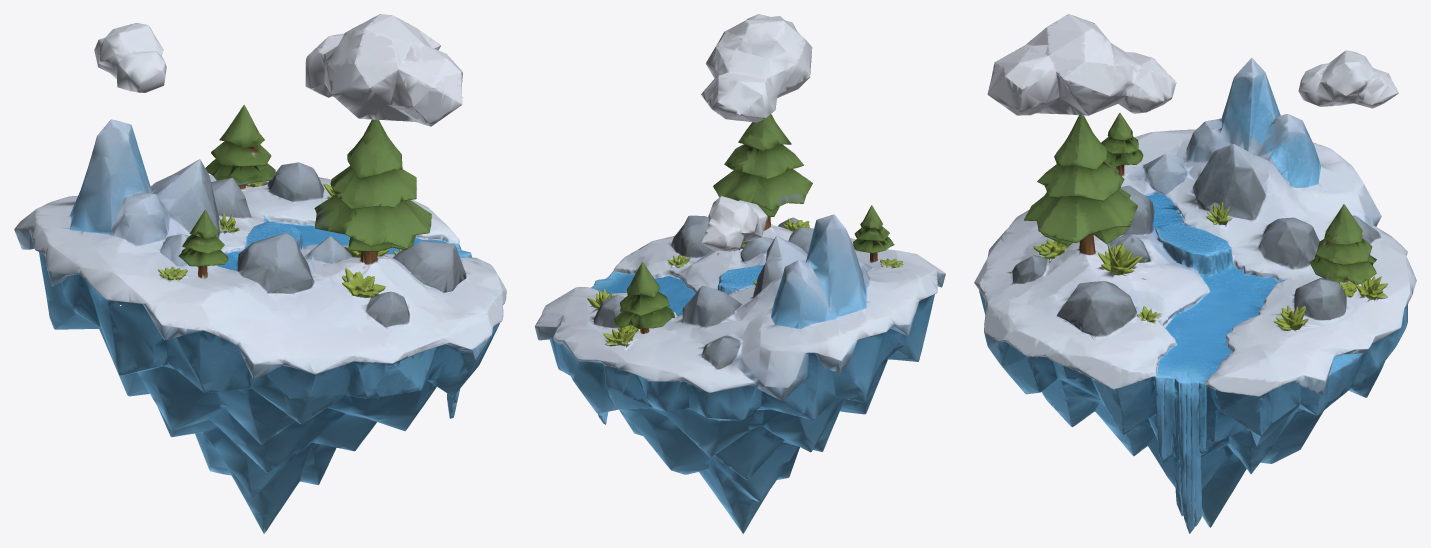
File: tripo_model_simplified.glb
3 renders of one model, left to right at view 1: azimuth 30°, elevation 25°; view 2: azimuth 150°, elevation 25°; view 3: azimuth 270°, elevation 25°, orthographic. The views are drawn at different scales.
Visible parts, largest first — view 1: tripo_node_99c6c694-f89a-4b9d-a0fe-1dd482a900e7; view 2: tripo_node_99c6c694-f89a-4b9d-a0fe-1dd482a900e7; view 3: tripo_node_99c6c694-f89a-4b9d-a0fe-1dd482a900e7.
Part boxes in pixels (left/top/right/bottom): tripo_node_99c6c694-f89a-4b9d-a0fe-1dd482a900e7: left=14, top=14, right=506, bottom=533; tripo_node_99c6c694-f89a-4b9d-a0fe-1dd482a900e7: left=535, top=14, right=945, bottom=533; tripo_node_99c6c694-f89a-4b9d-a0fe-1dd482a900e7: left=974, top=14, right=1416, bottom=533.
Bounding box in the file's own units: 0.7624 × 0.9802 × 0.7474.
Materials: 1 (1 with a texture image).
